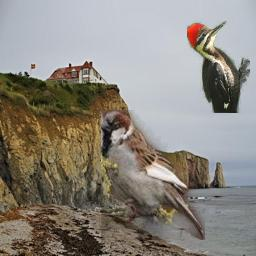Sparrow: (101, 110, 205, 240)
Woodpecker: (187, 21, 250, 113)
